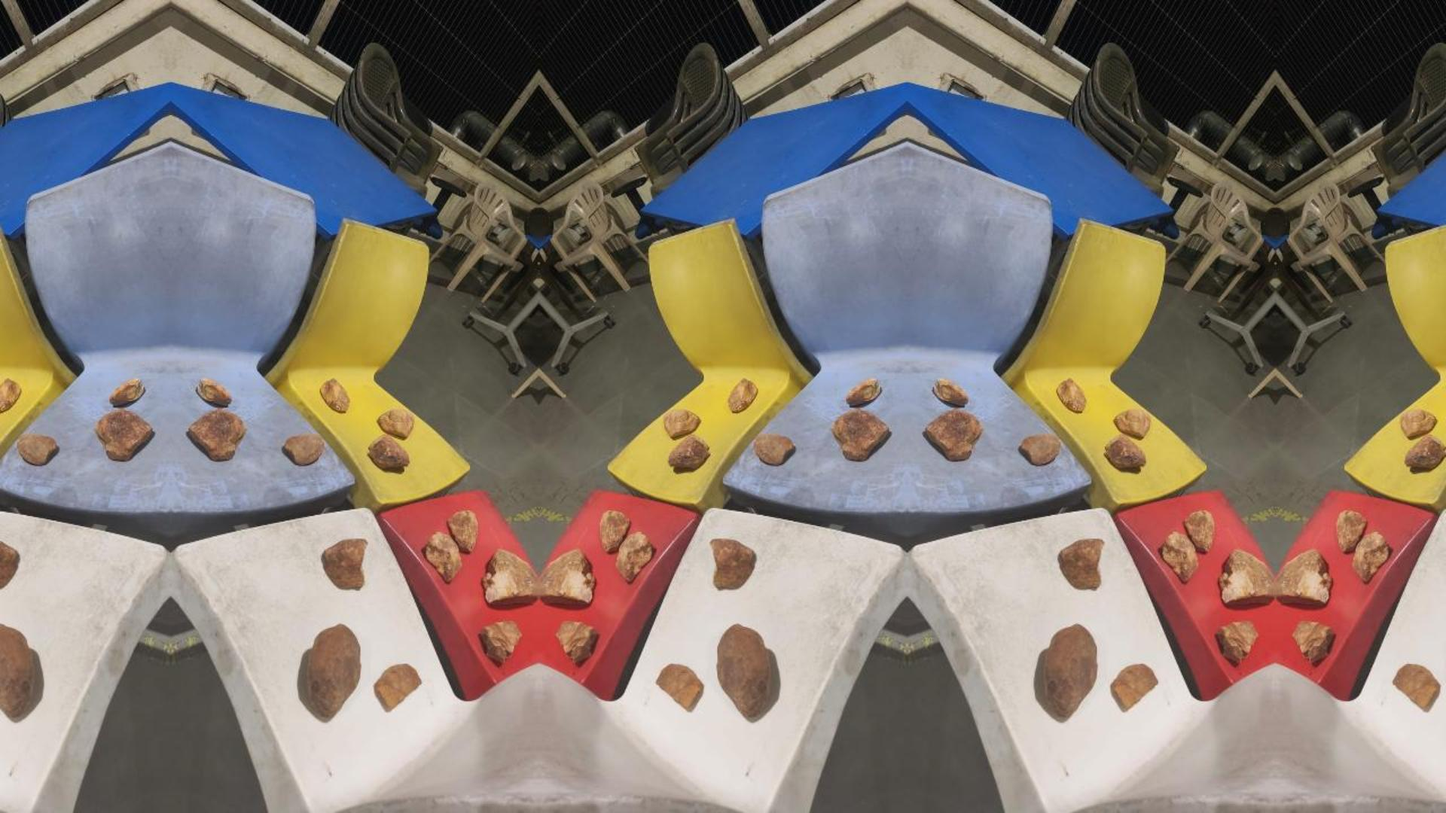rock: (1036, 624, 1097, 720), (300, 624, 359, 722), (717, 623, 770, 720), (0, 624, 36, 720), (482, 549, 538, 607), (540, 549, 594, 607), (185, 409, 245, 461), (1219, 550, 1274, 606), (1277, 550, 1331, 607), (831, 409, 890, 461), (923, 409, 982, 461), (95, 409, 154, 461), (1057, 539, 1103, 589), (711, 539, 756, 589), (321, 539, 366, 589), (656, 663, 703, 710), (1110, 663, 1157, 710), (374, 663, 420, 711), (1393, 663, 1439, 711), (1158, 532, 1196, 583), (1352, 532, 1390, 583), (478, 621, 521, 665), (616, 532, 653, 582), (1291, 621, 1334, 664), (556, 620, 598, 664), (424, 532, 460, 583), (1216, 621, 1257, 664), (367, 435, 409, 472), (1404, 435, 1445, 472), (1104, 436, 1146, 472), (668, 436, 709, 472), (281, 432, 324, 465), (752, 432, 794, 465), (16, 432, 58, 465), (446, 509, 478, 551), (1018, 434, 1061, 465), (1183, 509, 1214, 552), (599, 509, 629, 552), (1336, 509, 1366, 551), (663, 408, 700, 439), (376, 408, 413, 438), (1401, 408, 1437, 438), (1113, 409, 1150, 438), (1056, 377, 1086, 412), (195, 378, 232, 406), (932, 378, 969, 406), (108, 378, 145, 406), (844, 378, 880, 406), (728, 378, 757, 412), (320, 378, 349, 412), (0, 541, 19, 588), (0, 377, 21, 412)
